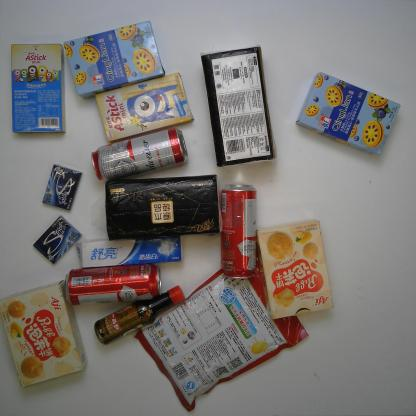Alcohol: (89, 127, 191, 182), (64, 266, 163, 306), (219, 184, 259, 281)
Dessert: (1, 278, 89, 388), (294, 72, 402, 157), (253, 219, 334, 322), (63, 19, 166, 100), (94, 71, 194, 144), (9, 42, 66, 137)
Gum: (31, 214, 82, 264), (40, 164, 82, 211)
Instant Drink: (134, 245, 309, 412)
Personal Hygiene: (74, 232, 186, 270)
Seasoner: (95, 283, 185, 346)
Tissue: (198, 45, 277, 167), (104, 174, 225, 243)
